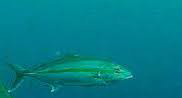hamati: (2, 46, 139, 95)
